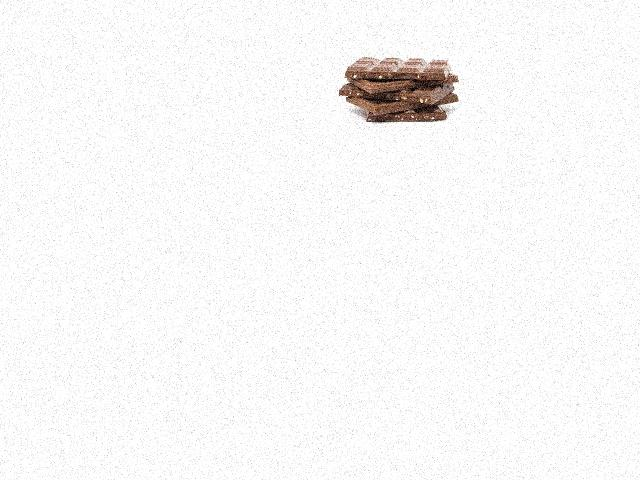chocolate: (346, 84, 456, 128)
